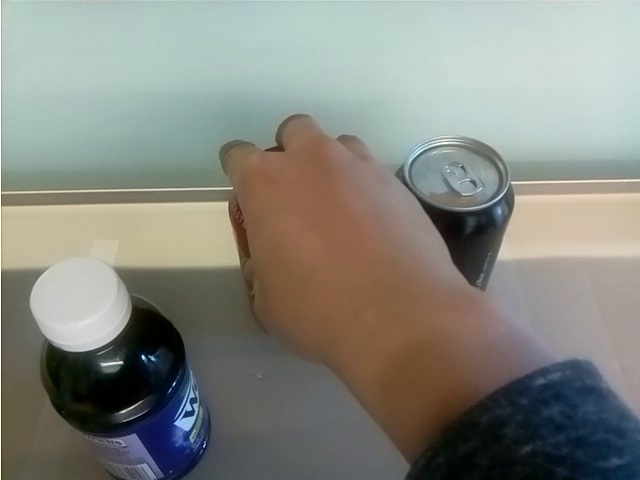cocacola-zero: (397, 134, 517, 293)
hand: (219, 112, 477, 346)
juice: (26, 257, 213, 480)
